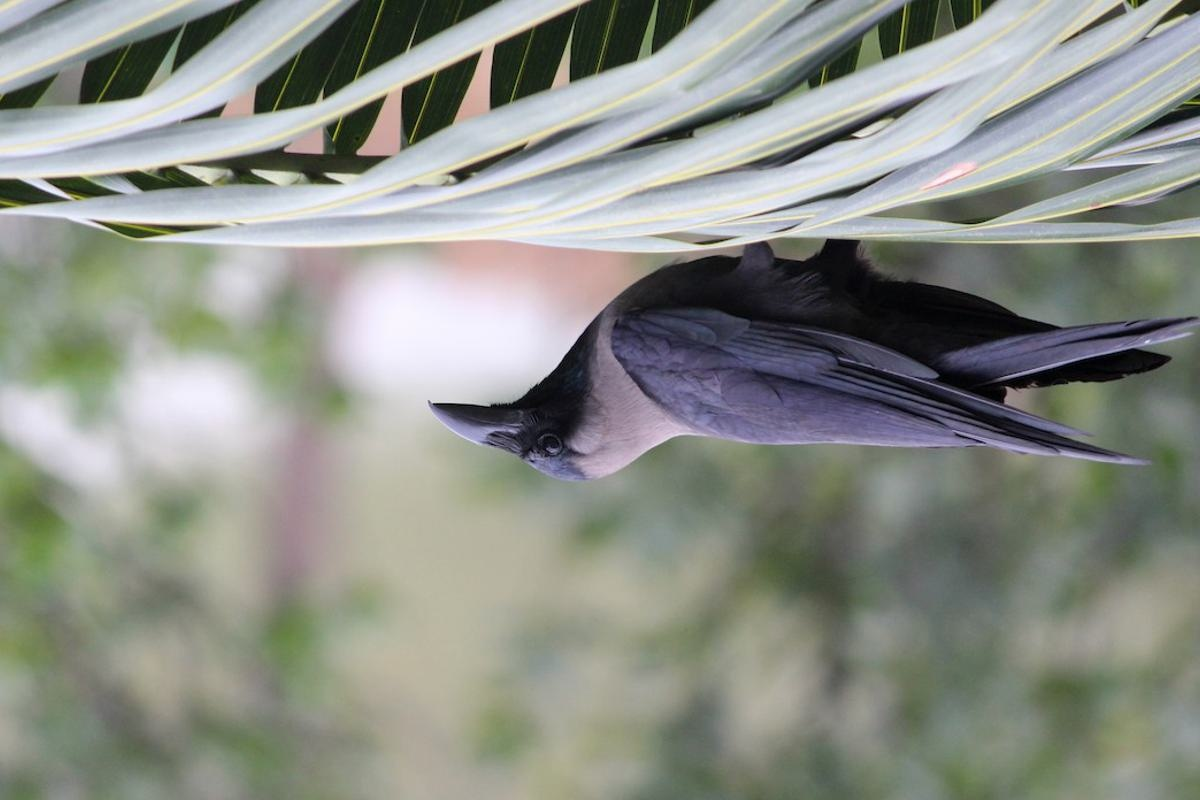crow: (414, 183, 1200, 500)
